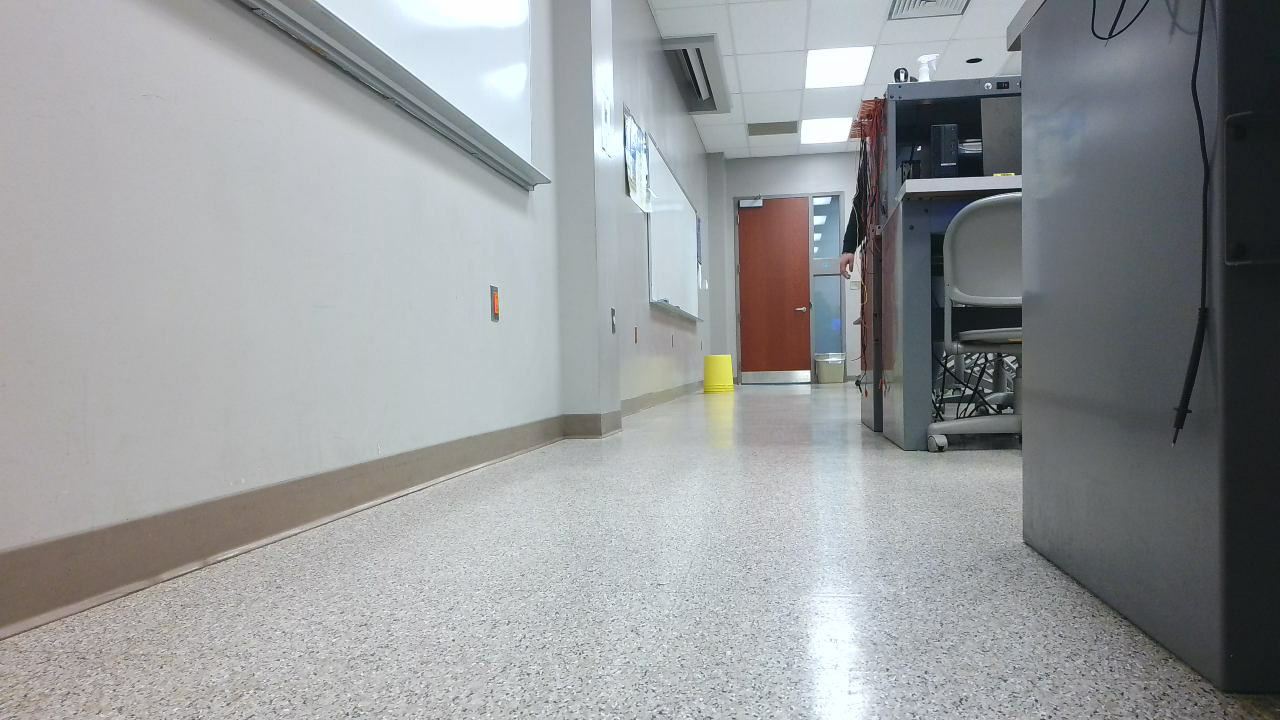yellow_bucket: (704, 356, 743, 403)
